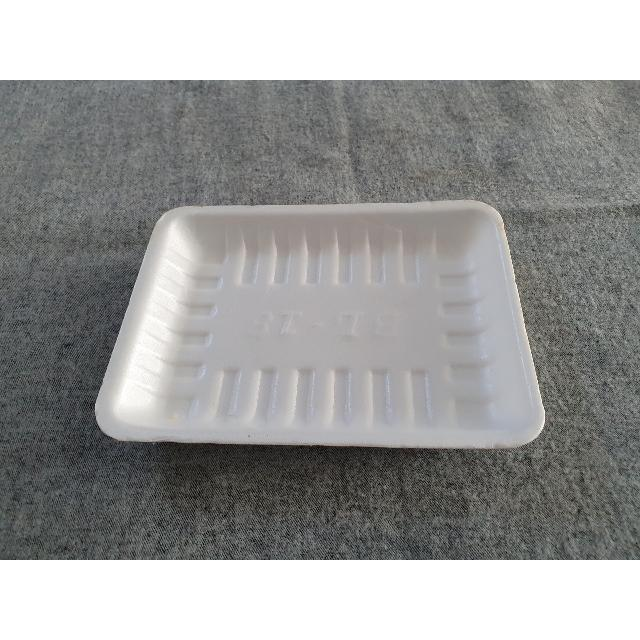Recipiente plastico: (96, 201, 545, 448)
